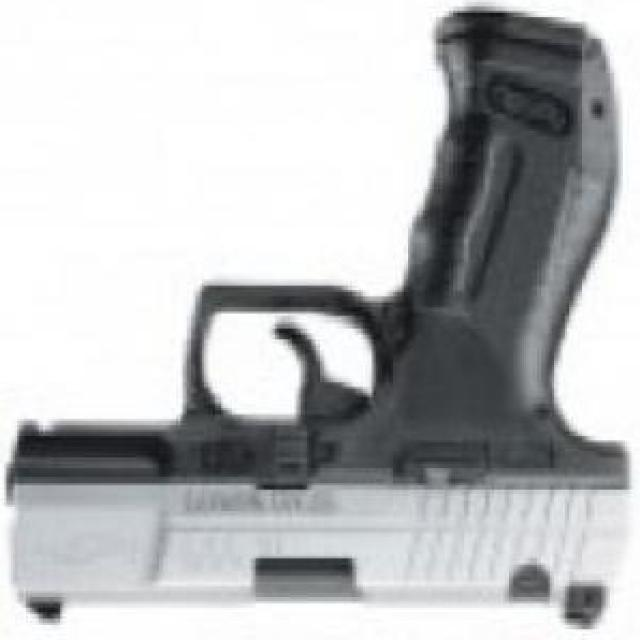pistol: (7, 4, 616, 634)
